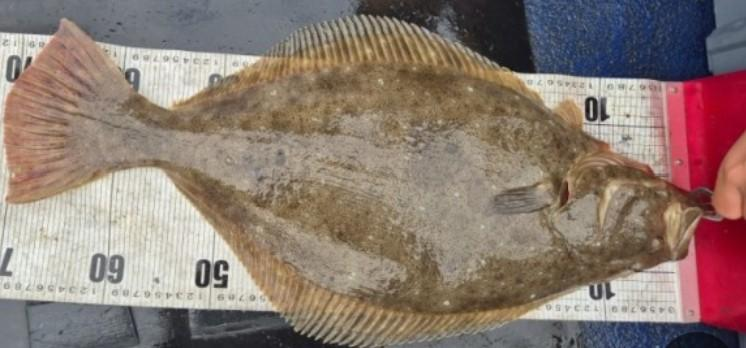fish: (0, 15, 714, 347)
